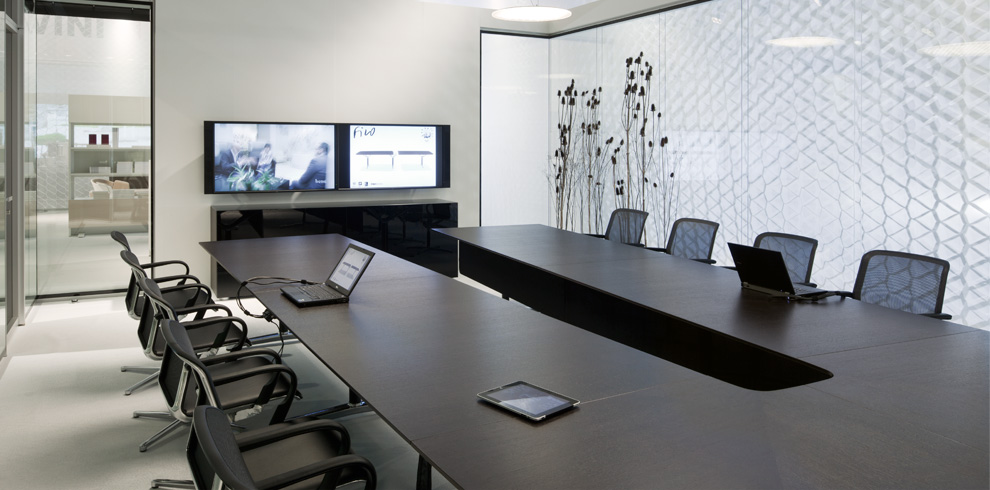conference_table: (199, 222, 990, 490)
